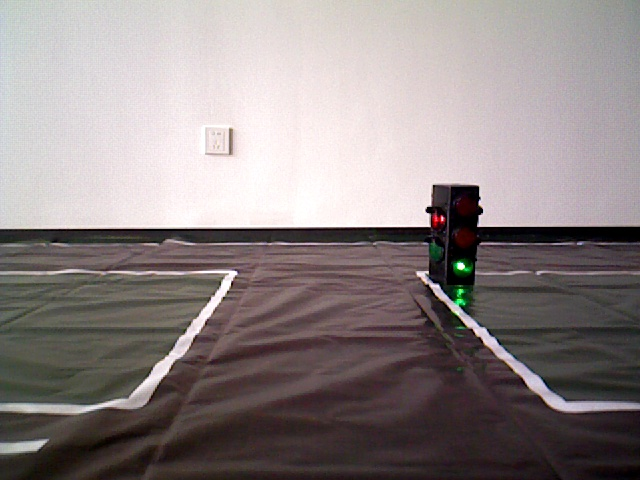green: (430, 185, 476, 284)
